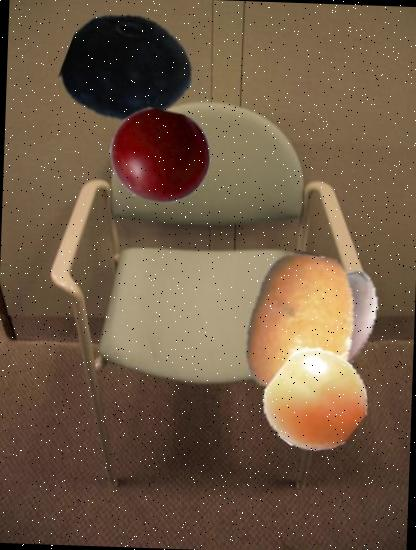Blueberry: (63, 3, 195, 135)
Cherry: (264, 350, 369, 454), (108, 104, 212, 208)
Hazelnut: (266, 261, 404, 398)
Kumquats: (224, 251, 378, 404)
